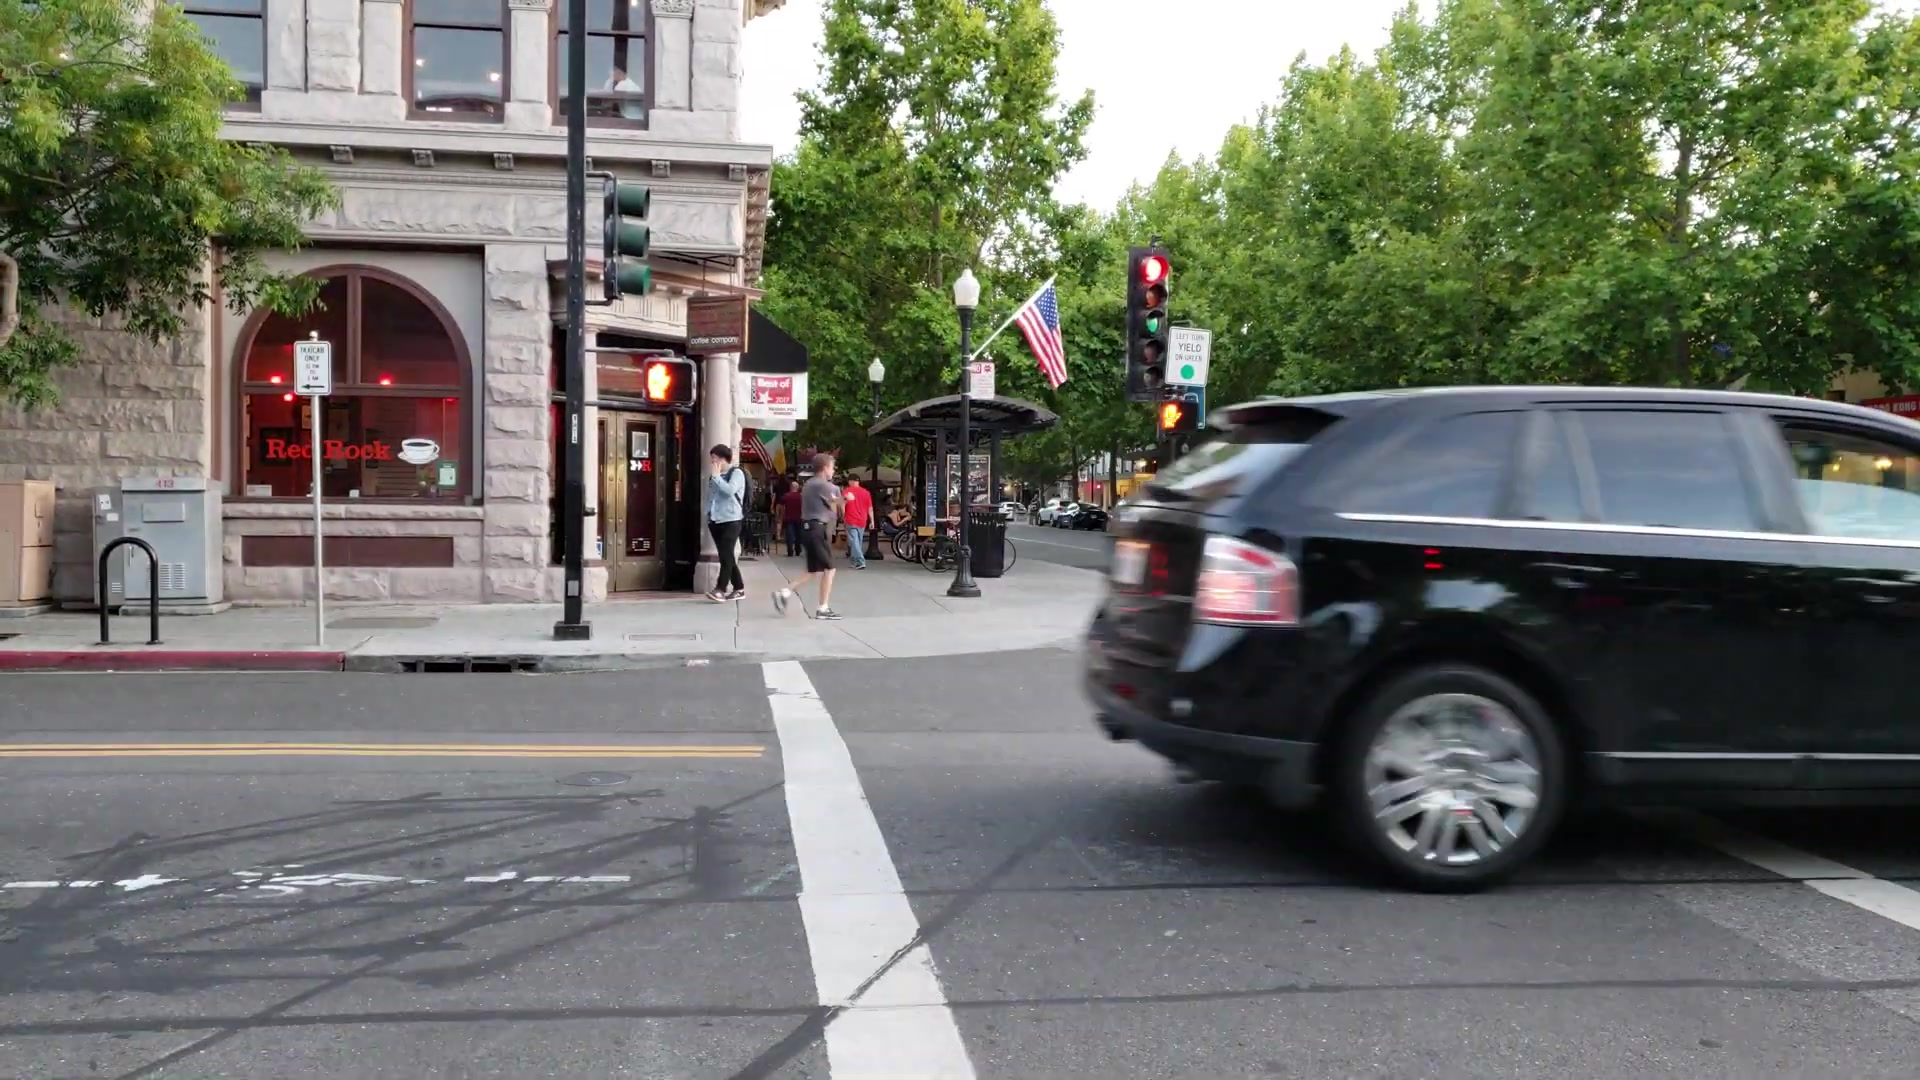vehicle: (1098, 392, 1920, 894)
